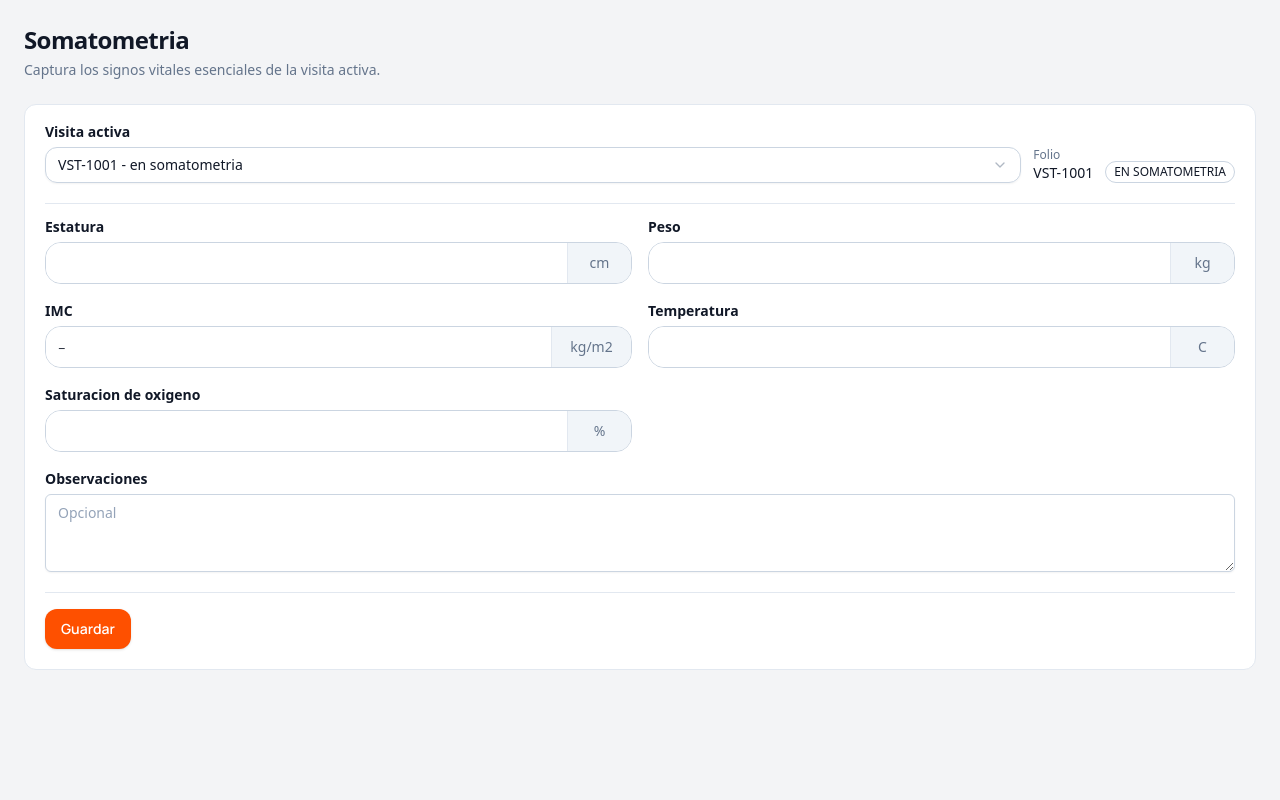
Scenario: SomatometriaCapturePage UI › guarda vitales cuando formulario es valido y resetea formulario
Type "70" into the number field labelled "Peso" at coordinates (910, 263), box [649,243,1170,283]
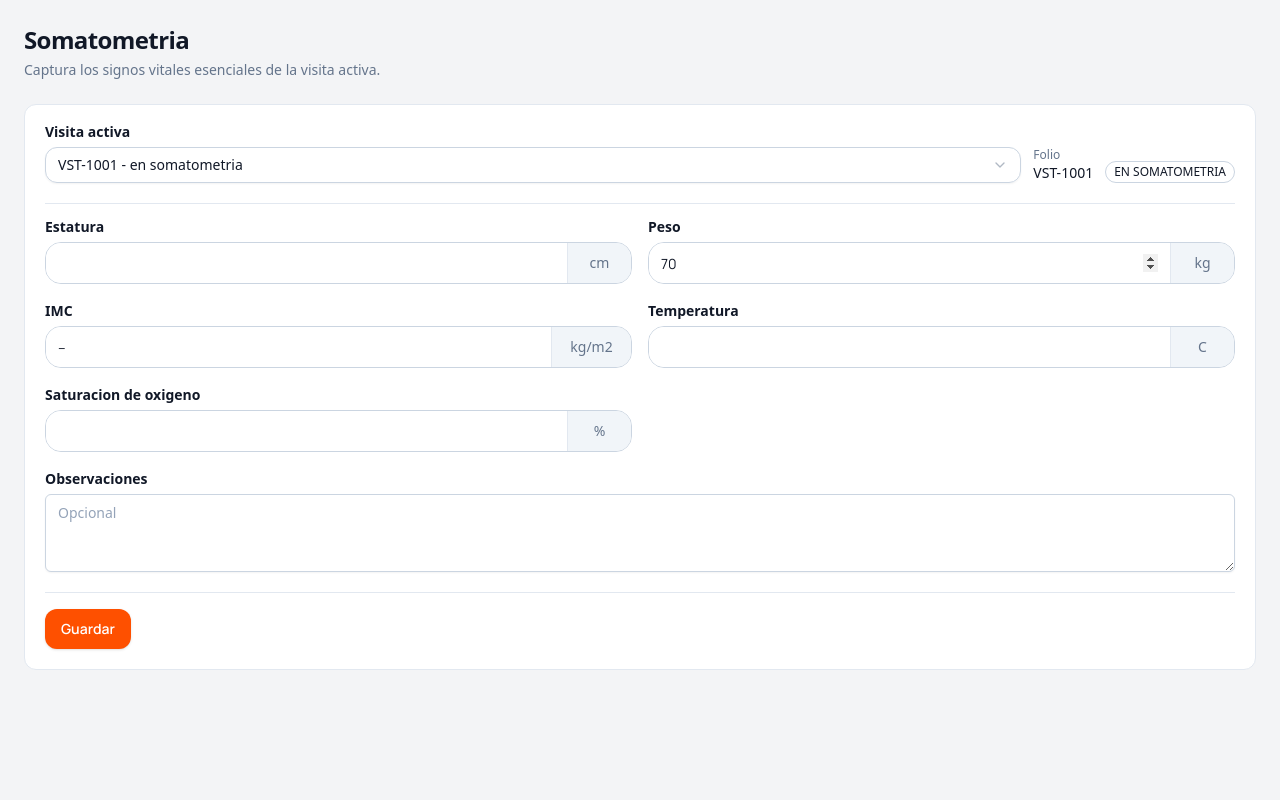
Type "175" into the number field labelled "Estatura" at coordinates (306, 263), box [46,243,567,283]
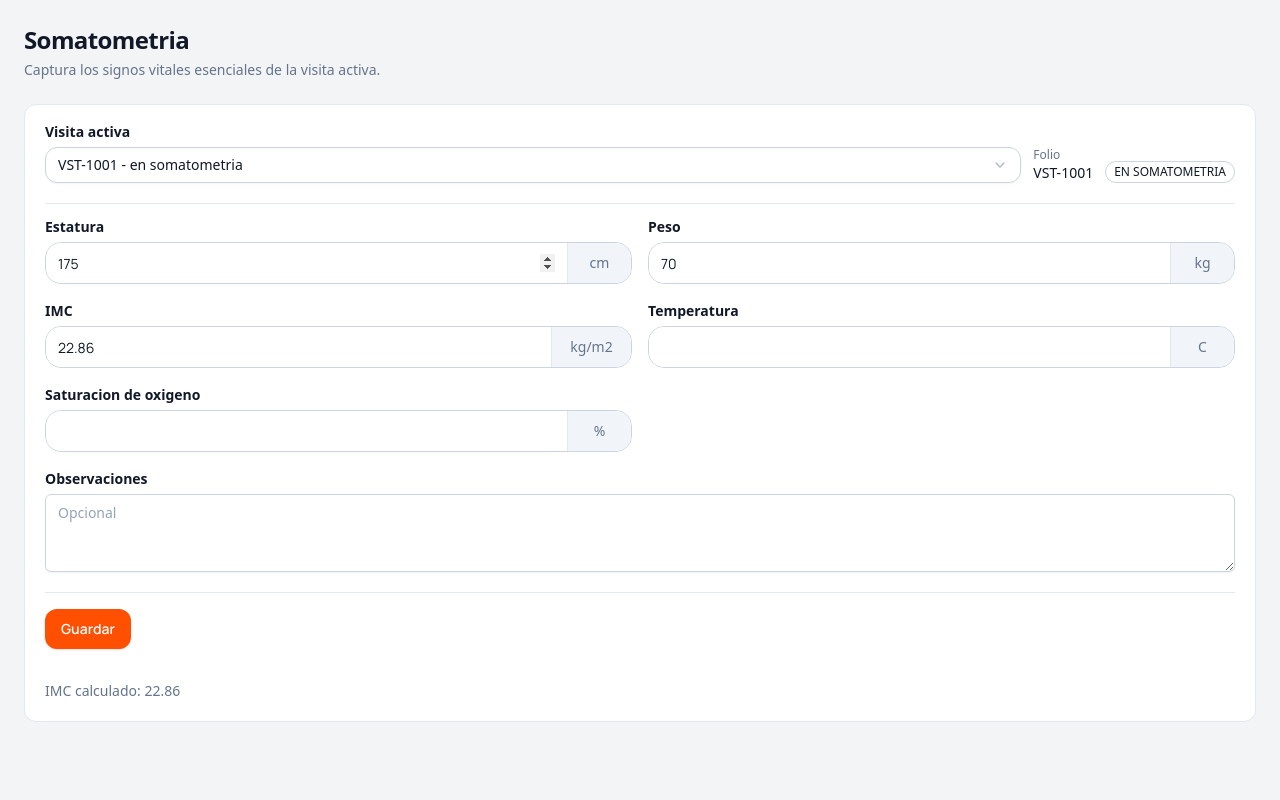
Type "36.6" into the number field labelled "Temperatura" at coordinates (910, 347), box [649,327,1170,367]
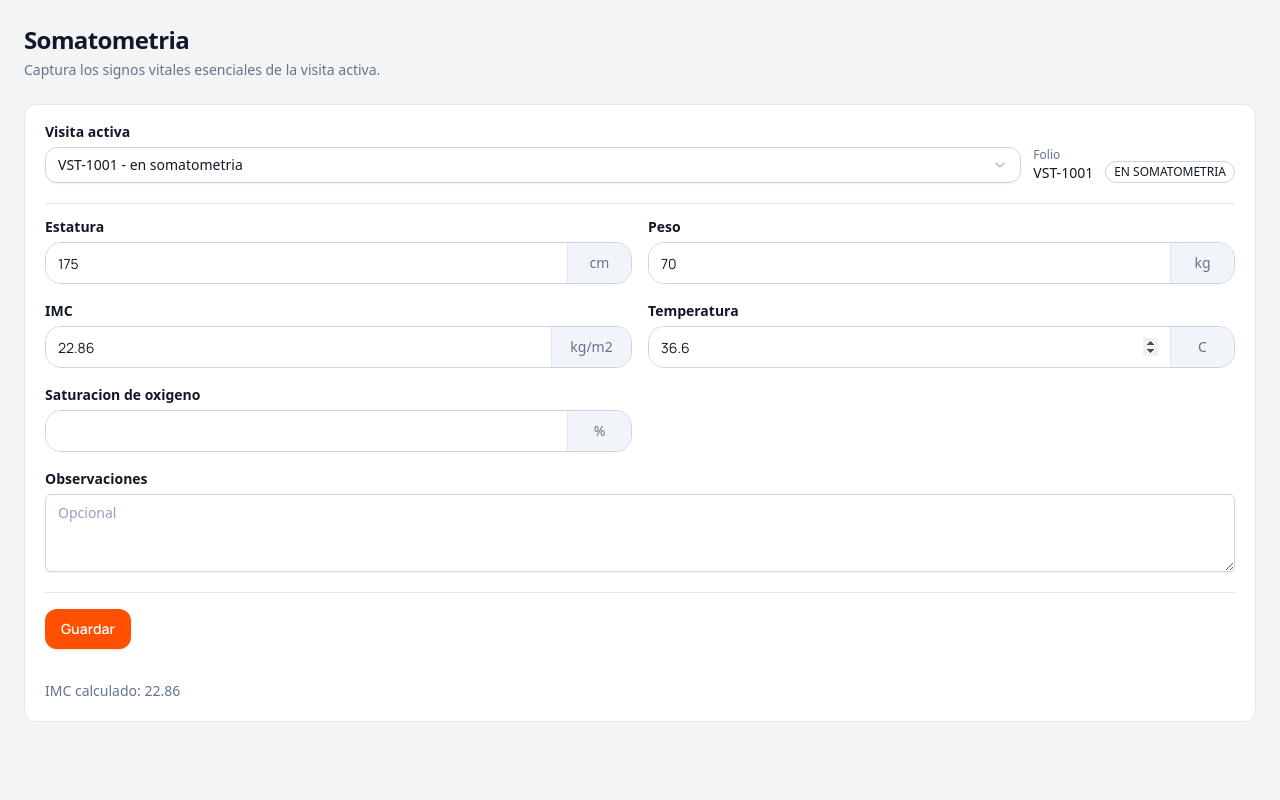
Type "98" into the number field labelled "Saturacion de oxigeno" at coordinates (306, 431), box [46,411,567,451]
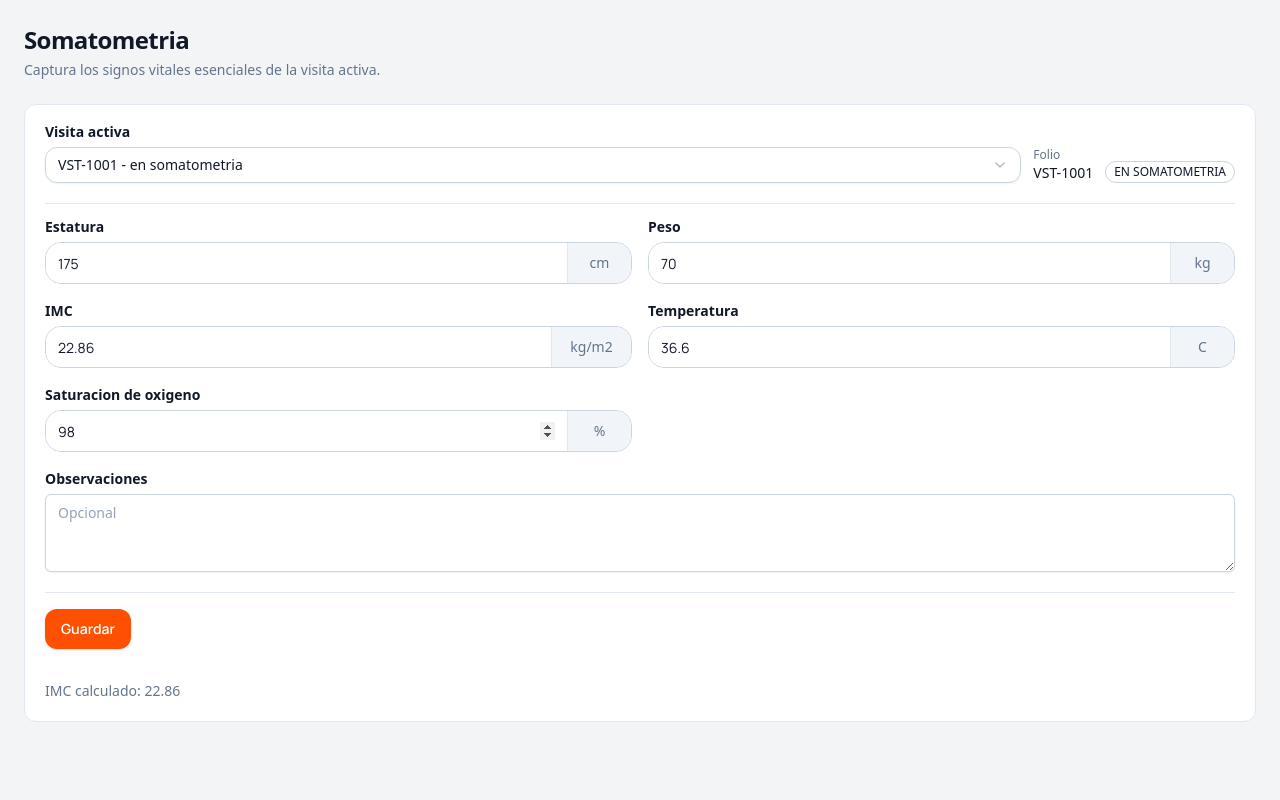
Type "Paciente hidratado." into the text box with test id "somato-observations-input" at coordinates (640, 533), box [45,494,1235,572]
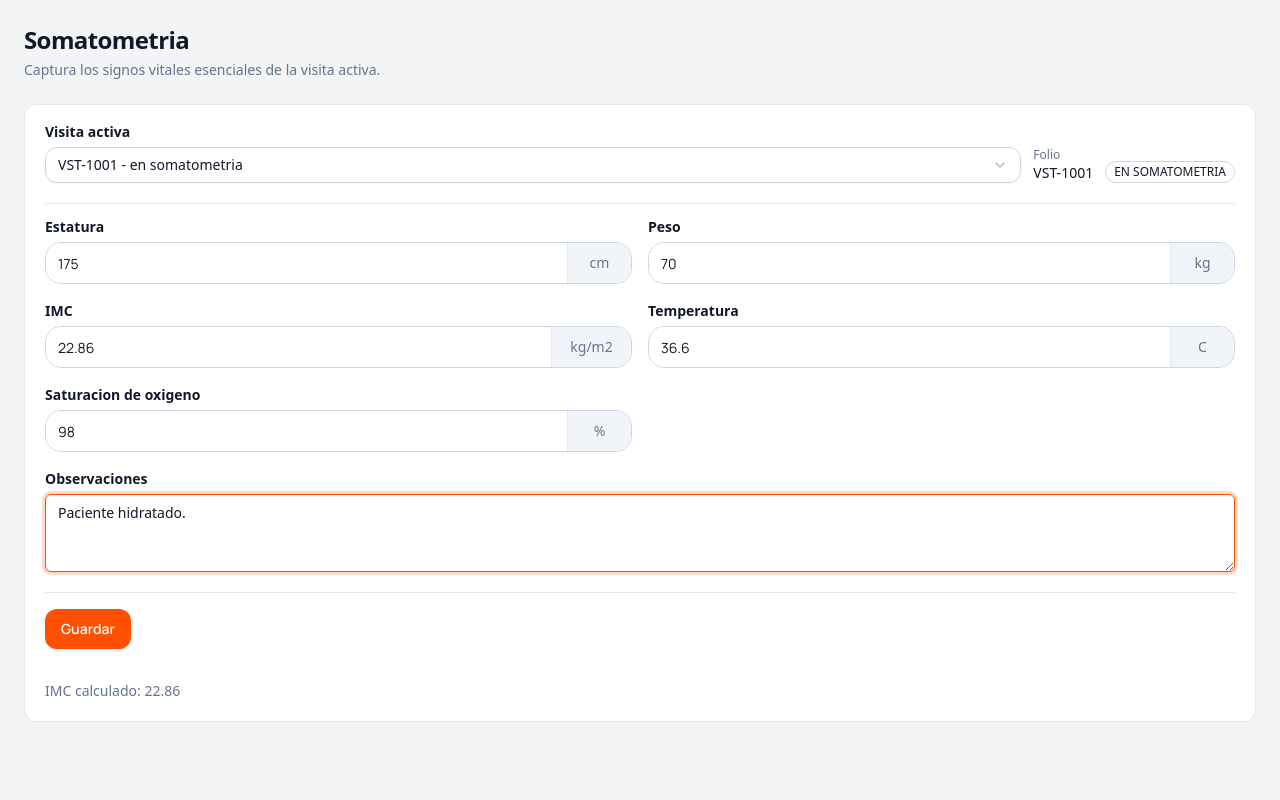
Click the button with test id "somato-save-button" at coordinates (88, 629), box [45,609,131,649]
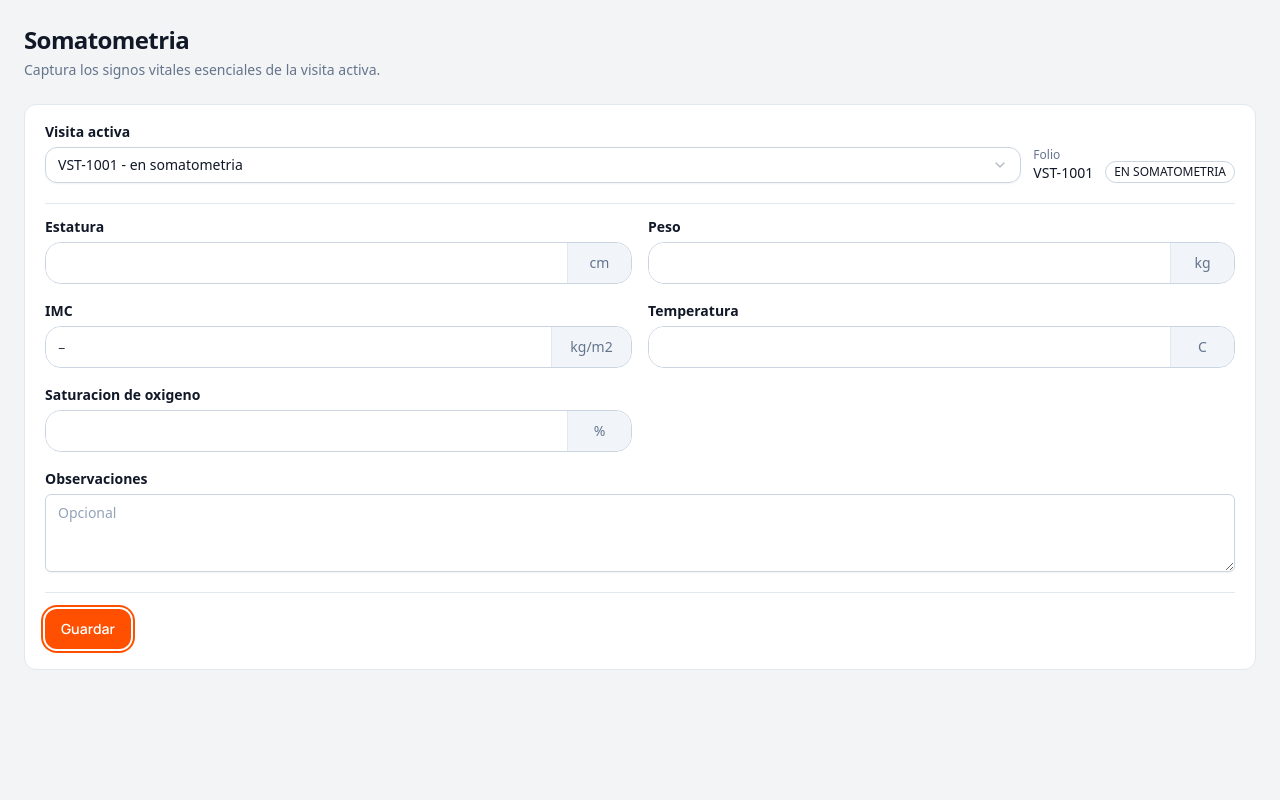
Now the field with test id "somato-bmi-input" holds "--", box [46,327,551,367]
Now the text box with test id "somato-observations-input" is empty, box [45,494,1235,572]
Now the text "IMC calculado:" is gone
